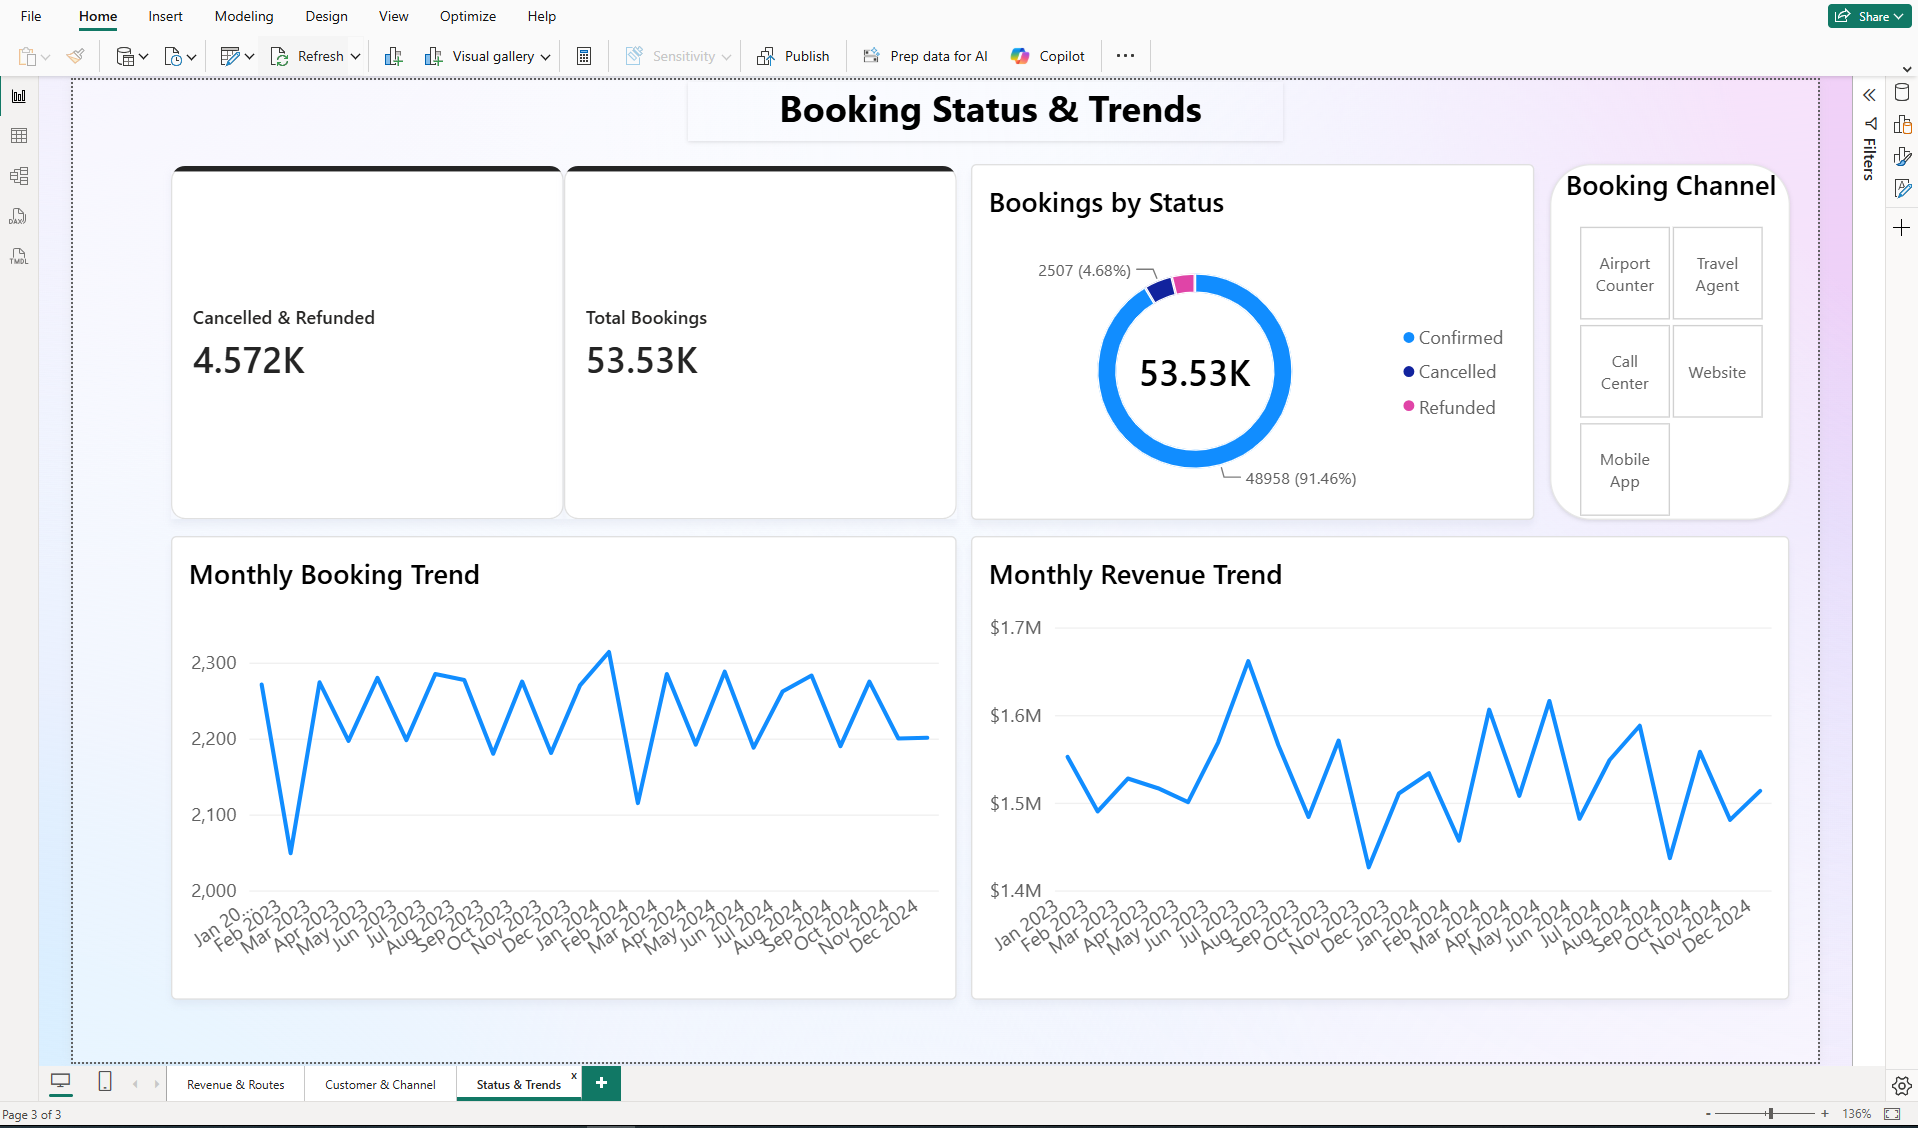

What the dashboard file says about the page in this screenshot:
{"tool":"powerbi","page":{"name":"Status & Trends","canvas":[1280,720],"ordinal":2},"visuals":[{"type":"textbox","box":[450.7,1.4,436.3,43.2],"z":0},{"type":"slicer","title":"Booking Channel","fields":{"Values":["Fact_TicketSales.BookingChannel"]},"box":[1082.9,61.9,175.7,260.6],"z":1000},{"type":"donutChart","title":"Bookings by Status","fields":{"Category":["Fact_TicketSales.BookingStatus"],"Y":["CountNonNull(Fact_TicketSales.TicketID)"]},"box":[658.1,61.9,413.3,260.6],"z":2000},{"type":"lineChart","title":"Monthly Booking Trend","fields":{"Category":["Dim_Date.YearMonth"],"Y":["CountNonNull(Fact_TicketSales.TicketID)"]},"box":[72,334.1,576,339.8],"z":3000},{"type":"cardVisual","fields":{"Data":["CountNonNull(Fact_TicketSales.TicketID)"]},"box":[72,63.4,288,259.2],"z":4000},{"type":"cardVisual","fields":{"Data":["CountNonNull(Fact_TicketSales.TicketID)"]},"box":[360,63.4,288,259.2],"z":5000},{"type":"lineChart","title":"Monthly Revenue Trend","fields":{"Category":["Dim_Date.YearMonth"],"Y":["Sum(Fact_TicketSales.FareAmount)"]},"box":[658.1,334.1,600.5,339.8],"z":6000}]}

Visuals, with their boxes on the page's 1280x720 design canvas (x1, y1, x2, y2). These are canvas units, not pixel positions in the 1918x1128 screenshot, which may show the page scaled, cropped or inside an application window:
textbox: l=451, t=1, r=887, b=45
"Booking Channel" slicer: l=1083, t=62, r=1259, b=322
"Bookings by Status" donutChart: l=658, t=62, r=1071, b=322
"Monthly Booking Trend" lineChart: l=72, t=334, r=648, b=674
cardVisual - CountNonNull(Fact_TicketSales.TicketID): l=72, t=63, r=360, b=323
cardVisual - CountNonNull(Fact_TicketSales.TicketID): l=360, t=63, r=648, b=323
"Monthly Revenue Trend" lineChart: l=658, t=334, r=1259, b=674
